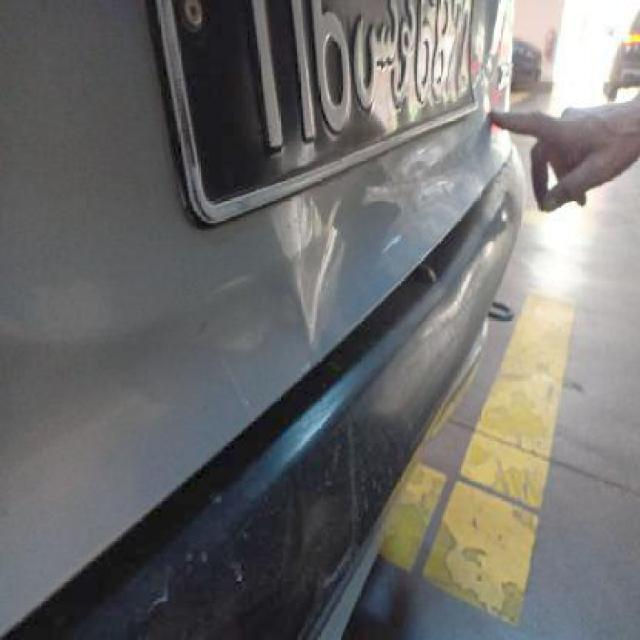car damage: (265, 138, 406, 366)
